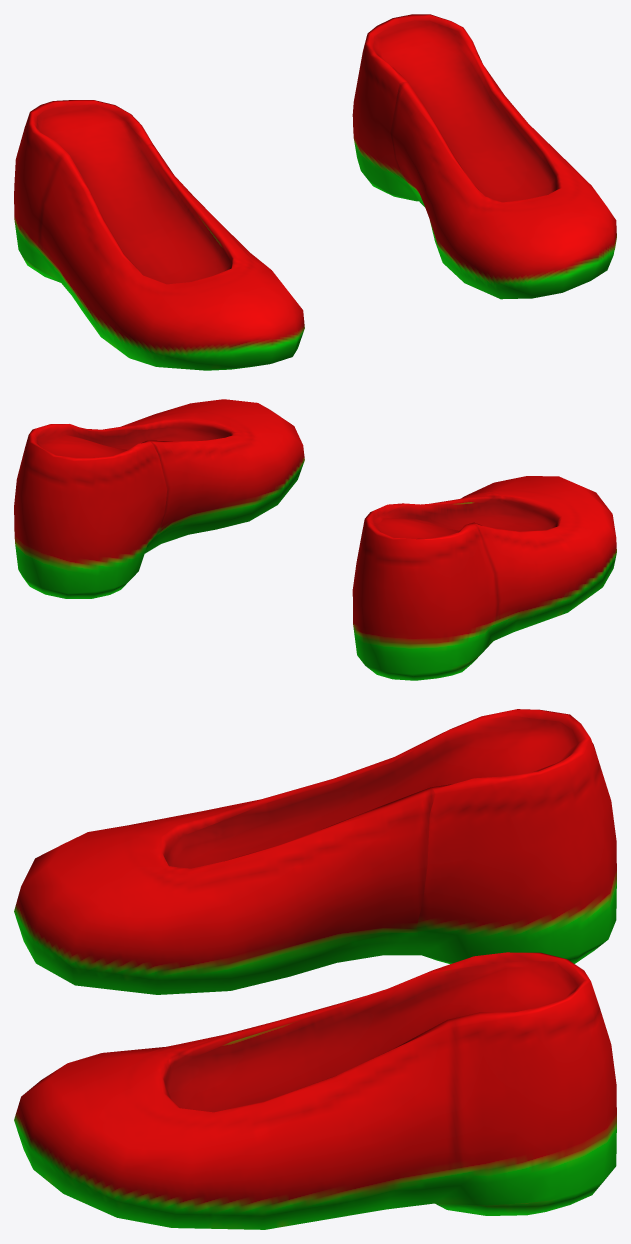
File: BSMC_Outfit_Feet_SlipOns.obj
3 renders of one model, top to bottom at view 1: azimuth 30°, elevation 25°; view 2: azimuth 150°, elevation 25°; view 3: azimuth 270°, elevation 25°, orthographic. The views are drawn at different scales.
Visible parts, largest first — view 1: BSMC_Outfit_Feet_SlipOns_0; view 2: BSMC_Outfit_Feet_SlipOns_0; view 3: BSMC_Outfit_Feet_SlipOns_0.
Part boxes in pixels (left/top/right/bottom): BSMC_Outfit_Feet_SlipOns_0: left=14, top=14, right=616, bottom=370; BSMC_Outfit_Feet_SlipOns_0: left=14, top=399, right=616, bottom=680; BSMC_Outfit_Feet_SlipOns_0: left=14, top=709, right=616, bottom=1229.
Bounding box in the file's own units: 0.3307 × 0.0974 × 0.244.
1 material, 1 textured.
